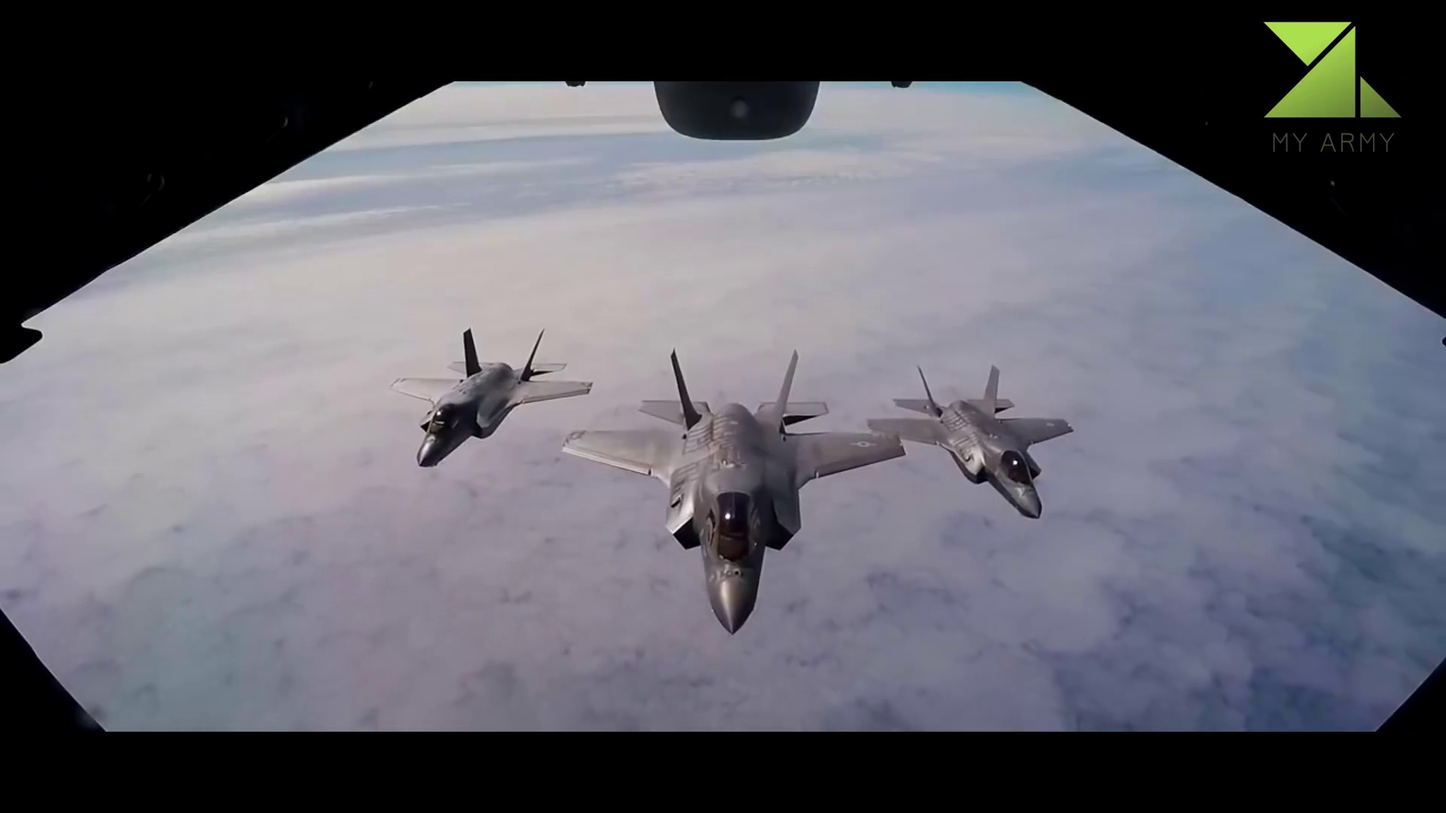F35: (565, 343, 909, 635), (868, 361, 1075, 517), (389, 320, 593, 467)
